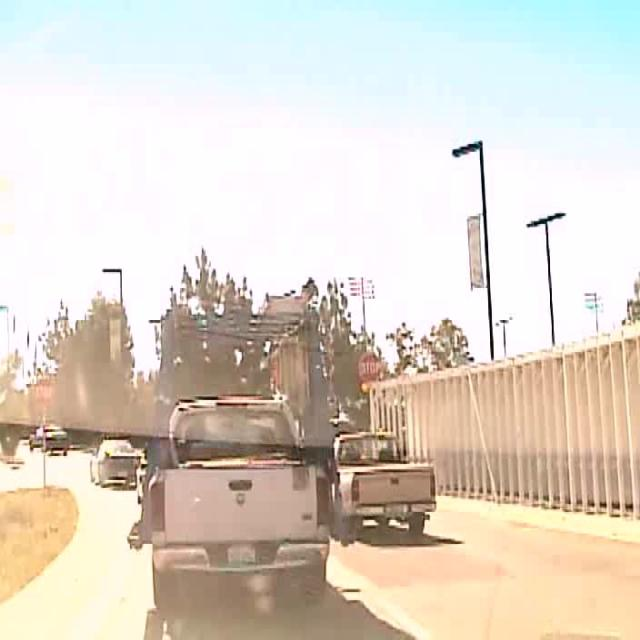stop: (357, 350, 381, 386), (34, 377, 54, 407)
